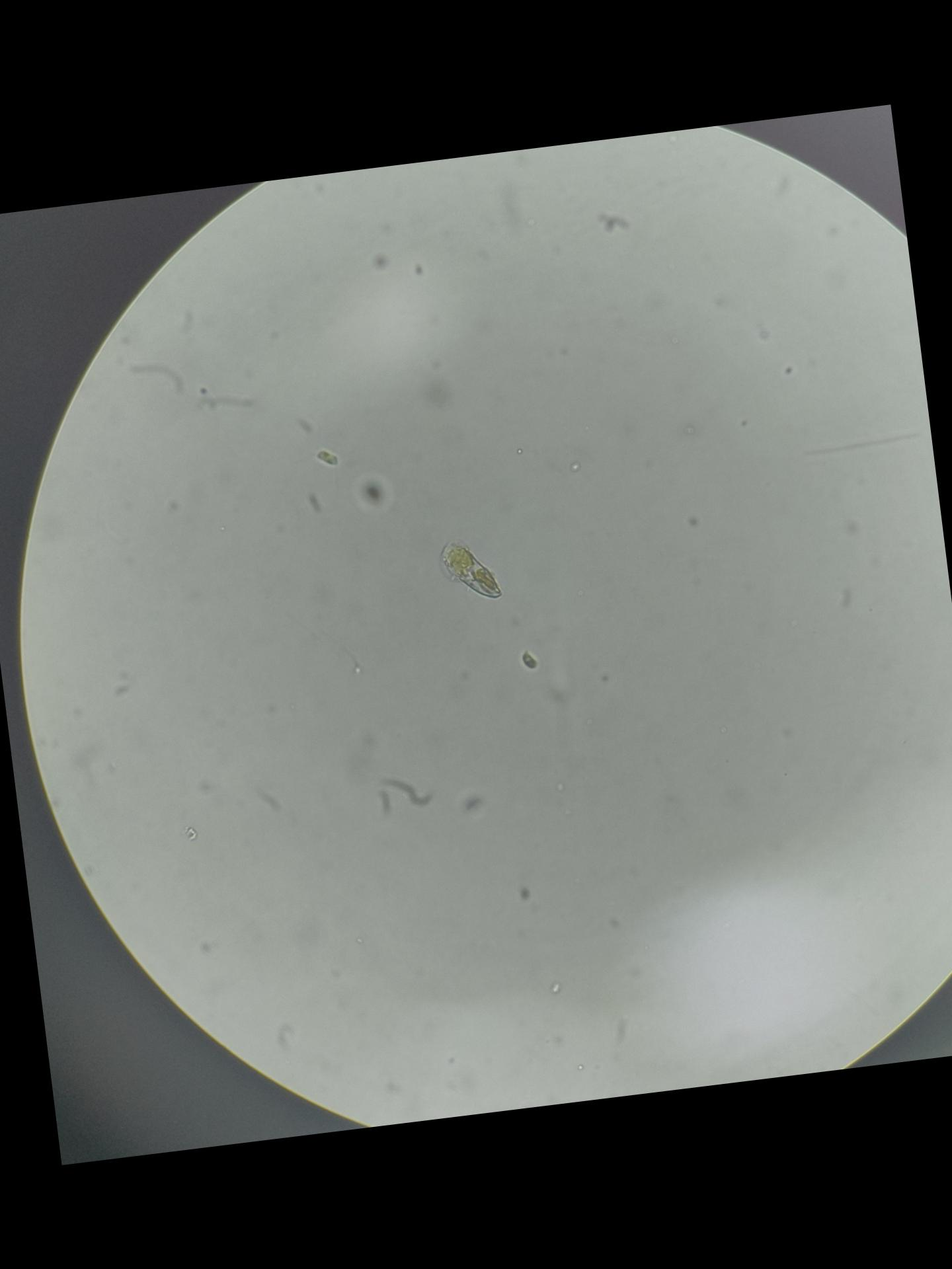Euglena: (423, 522, 516, 620)
